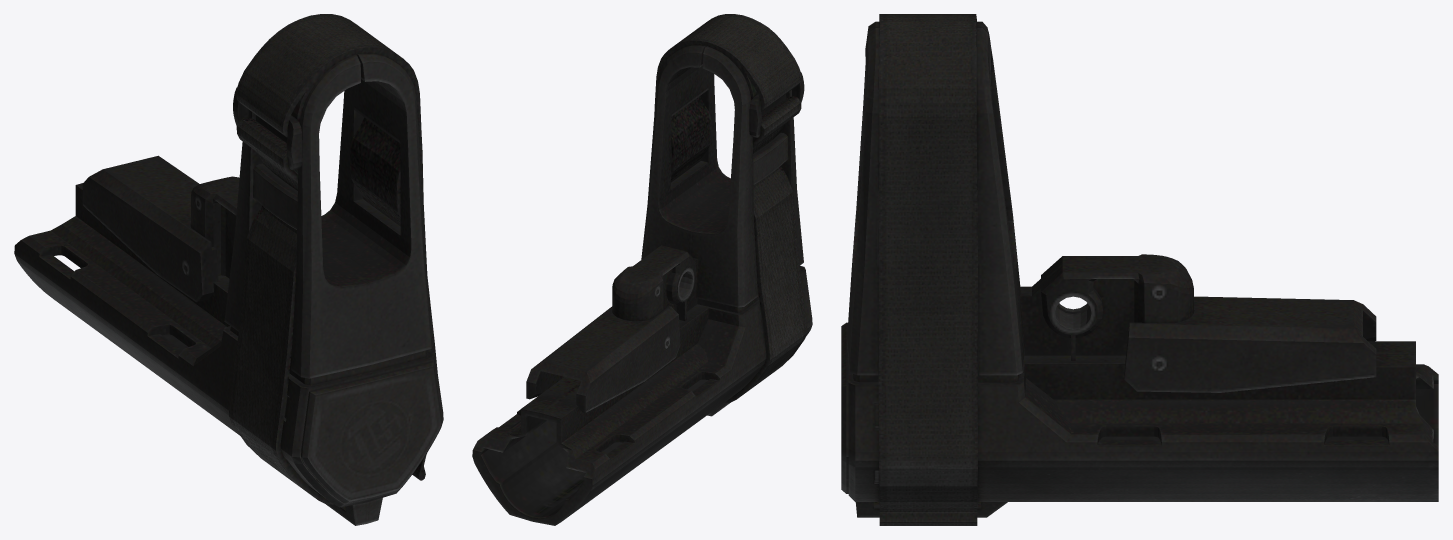
3 views of the same model, side by side, from view 1: azimuth 30°, elevation 25°; view 2: azimuth 150°, elevation 25°; view 3: azimuth 270°, elevation 25° (orthographic). The views are drawn at different scales.
Visible parts, largest first — view 1: TW_628a85ee6b1d481ff772e9d5_PZ_Import; view 2: TW_628a85ee6b1d481ff772e9d5_PZ_Import; view 3: TW_628a85ee6b1d481ff772e9d5_PZ_Import.
Boxes of the visible parts, left/top/right/bottom form: TW_628a85ee6b1d481ff772e9d5_PZ_Import: left=14, top=14, right=443, bottom=525; TW_628a85ee6b1d481ff772e9d5_PZ_Import: left=472, top=14, right=812, bottom=525; TW_628a85ee6b1d481ff772e9d5_PZ_Import: left=841, top=14, right=1438, bottom=525.
Bounding box in the file's own units: 0.0317 × 0.0949 × 0.086.
Materials: 1 (1 with a texture image).
